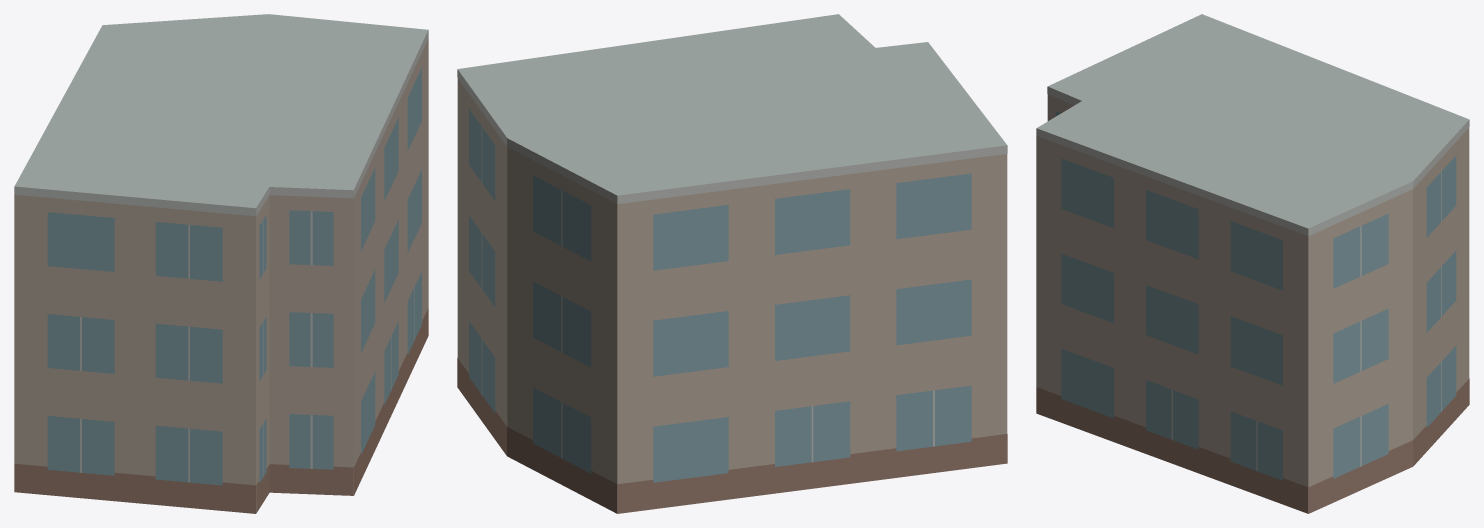
Rendered from survey-upis-32580748.glb.
The picture shows the model from 3 angles, left to right: view 1: azimuth 30°, elevation 25°; view 2: azimuth 150°, elevation 25°; view 3: azimuth 270°, elevation 25°; orthographic projection. The views are drawn at different scales.
Visible parts, largest first — view 1: survey-upis-32580748.tmp; view 2: survey-upis-32580748.tmp; view 3: survey-upis-32580748.tmp.
Part boxes in pixels (x1,y1,x2,y2): survey-upis-32580748.tmp: (14, 14, 428, 513); survey-upis-32580748.tmp: (457, 14, 1007, 513); survey-upis-32580748.tmp: (1036, 14, 1469, 513).
Bounding box in the file's own units: 14.77 × 9.15 × 12.6.
